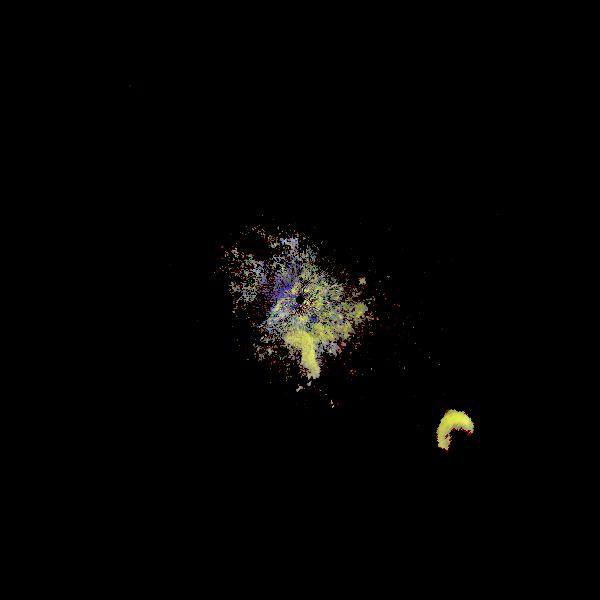roost: (259, 326, 325, 392), (432, 407, 492, 467)
